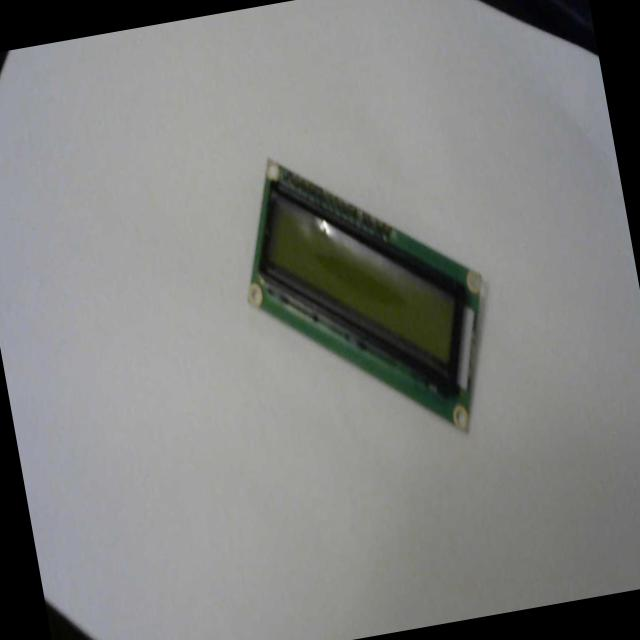lcd: (222, 121, 508, 467)
